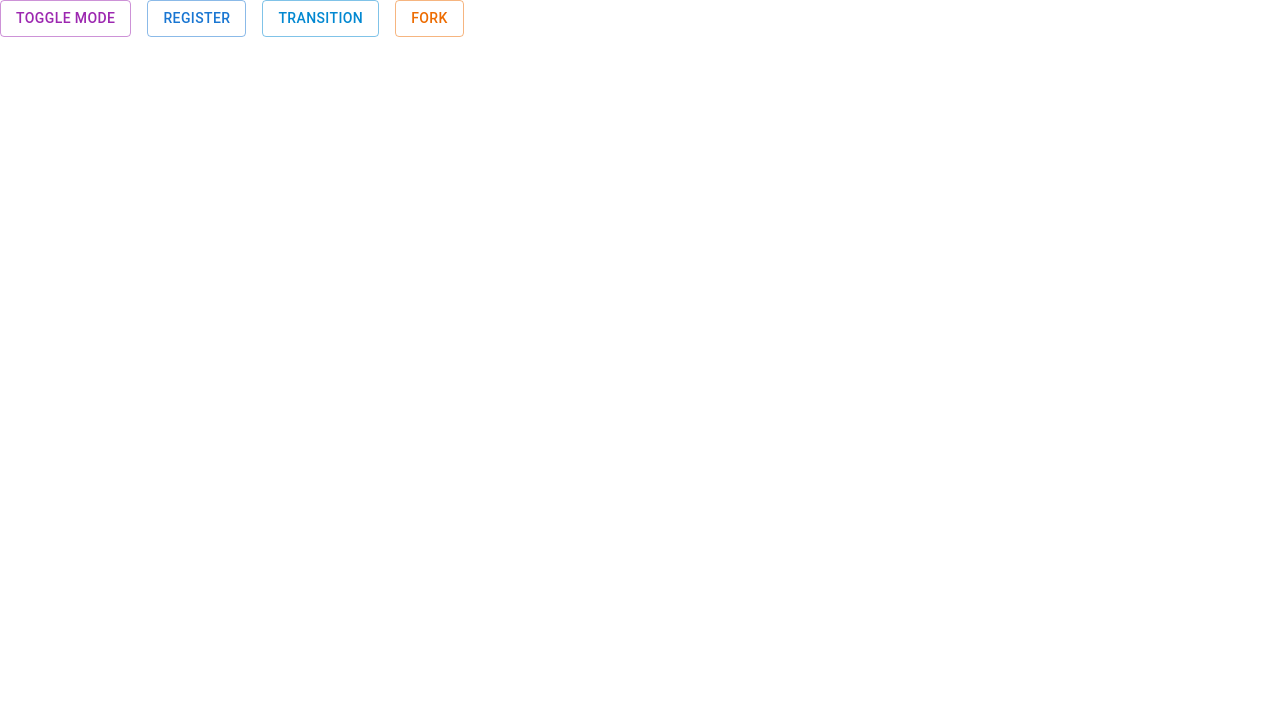
Test case: CapabilityActions › opens mode toggle dialog when toggle mode button is clicked
Click the button "Toggle Mode" at (66, 18), box [0,0,131,36]
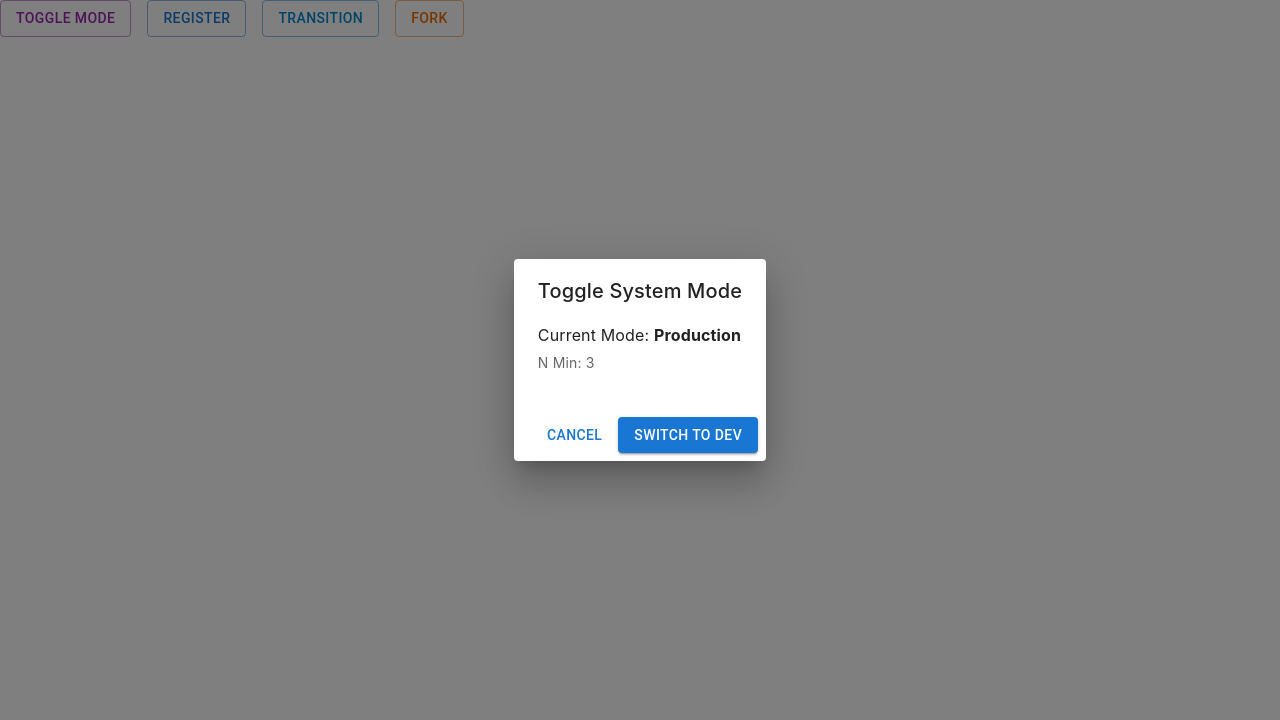
expect the element with test id "mode-toggle-dialog" is shown: met
